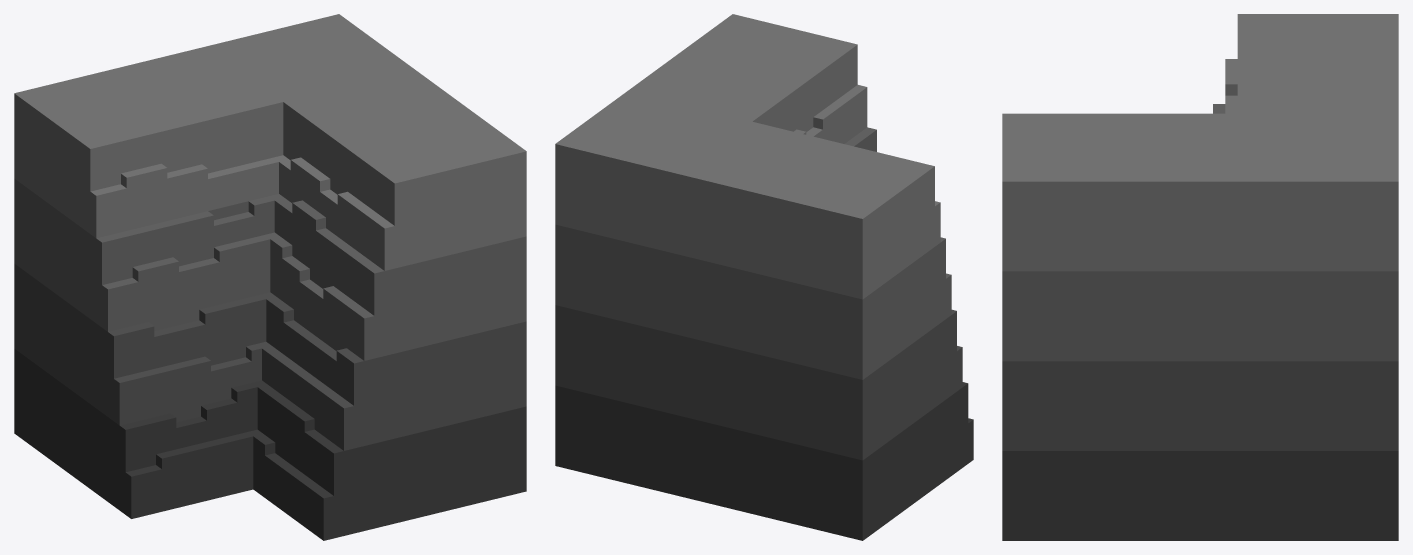
Rendered from mountain-edge-inner-4.gltf.
The picture shows the model from 3 angles, left to right: view 1: azimuth 30°, elevation 25°; view 2: azimuth 150°, elevation 25°; view 3: azimuth 270°, elevation 25°; orthographic projection. The views are drawn at different scales.
Visible parts, largest first — view 1: mountain-edge-inner-4; view 2: mountain-edge-inner-4; view 3: mountain-edge-inner-4.
Boxes of the visible parts, box(x1,y1,x2,y2) form: mountain-edge-inner-4: box(14, 14, 526, 540); mountain-edge-inner-4: box(555, 14, 973, 540); mountain-edge-inner-4: box(1002, 14, 1398, 540).
Size of the model in its own units: 3.2 by 3.2 by 3.2.
Materials: 1 (1 with a texture image).
